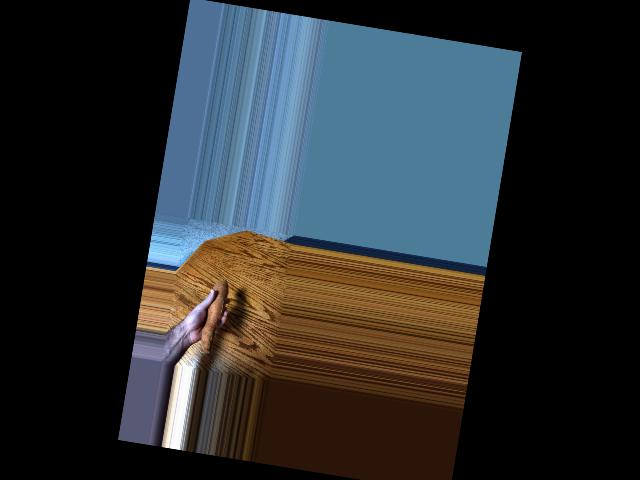sweet_potato: (194, 273, 230, 357)
